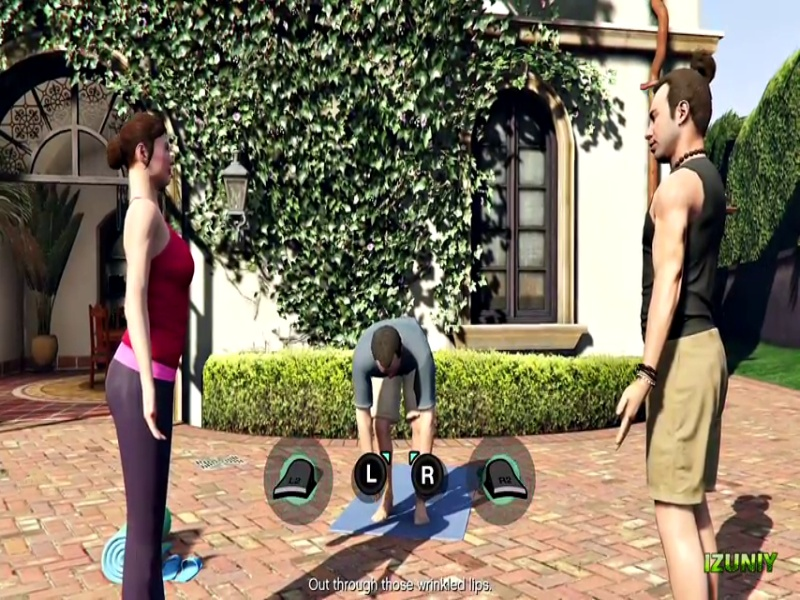human: (93, 113, 196, 600)
